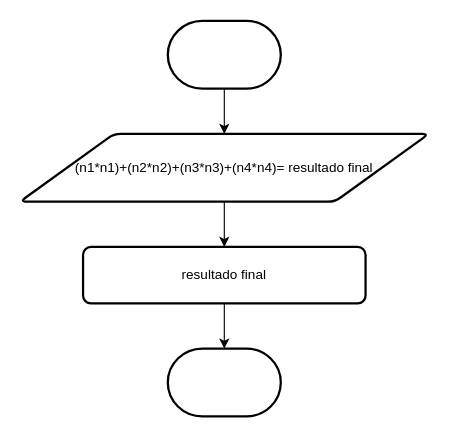
Some shapes in this 450 by 436 pixel diagram are drawn without their labels. Here are the shapes that lost their labels. From the top down, the centre of each, then its label:
At (223,54): "inicio".
At (223,382): "final".
